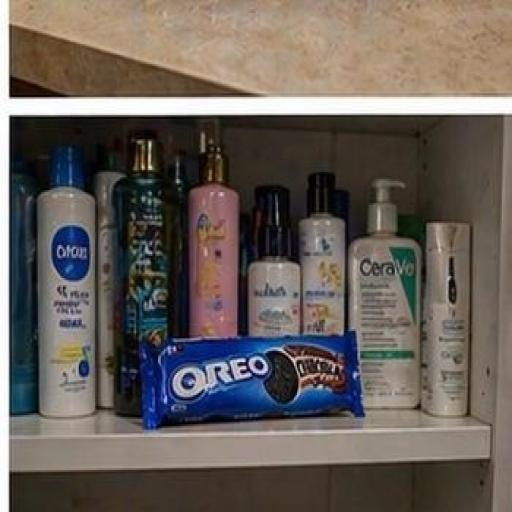oreo: (108, 274, 390, 448)
